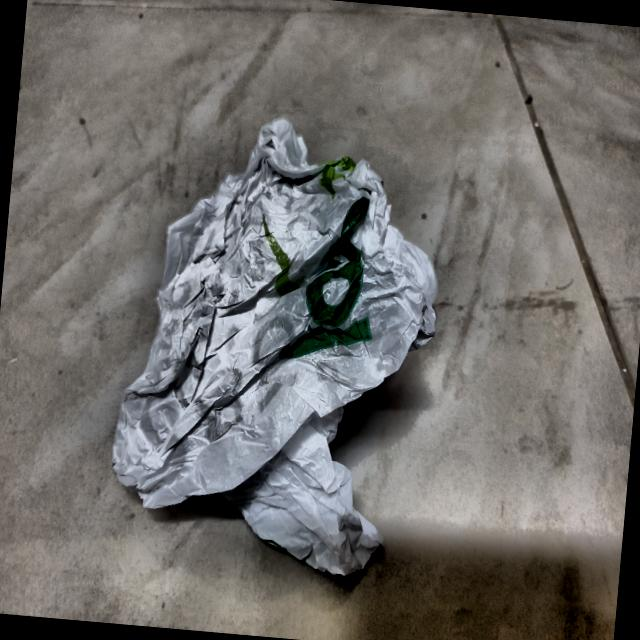plastic bag: (96, 100, 467, 594)
